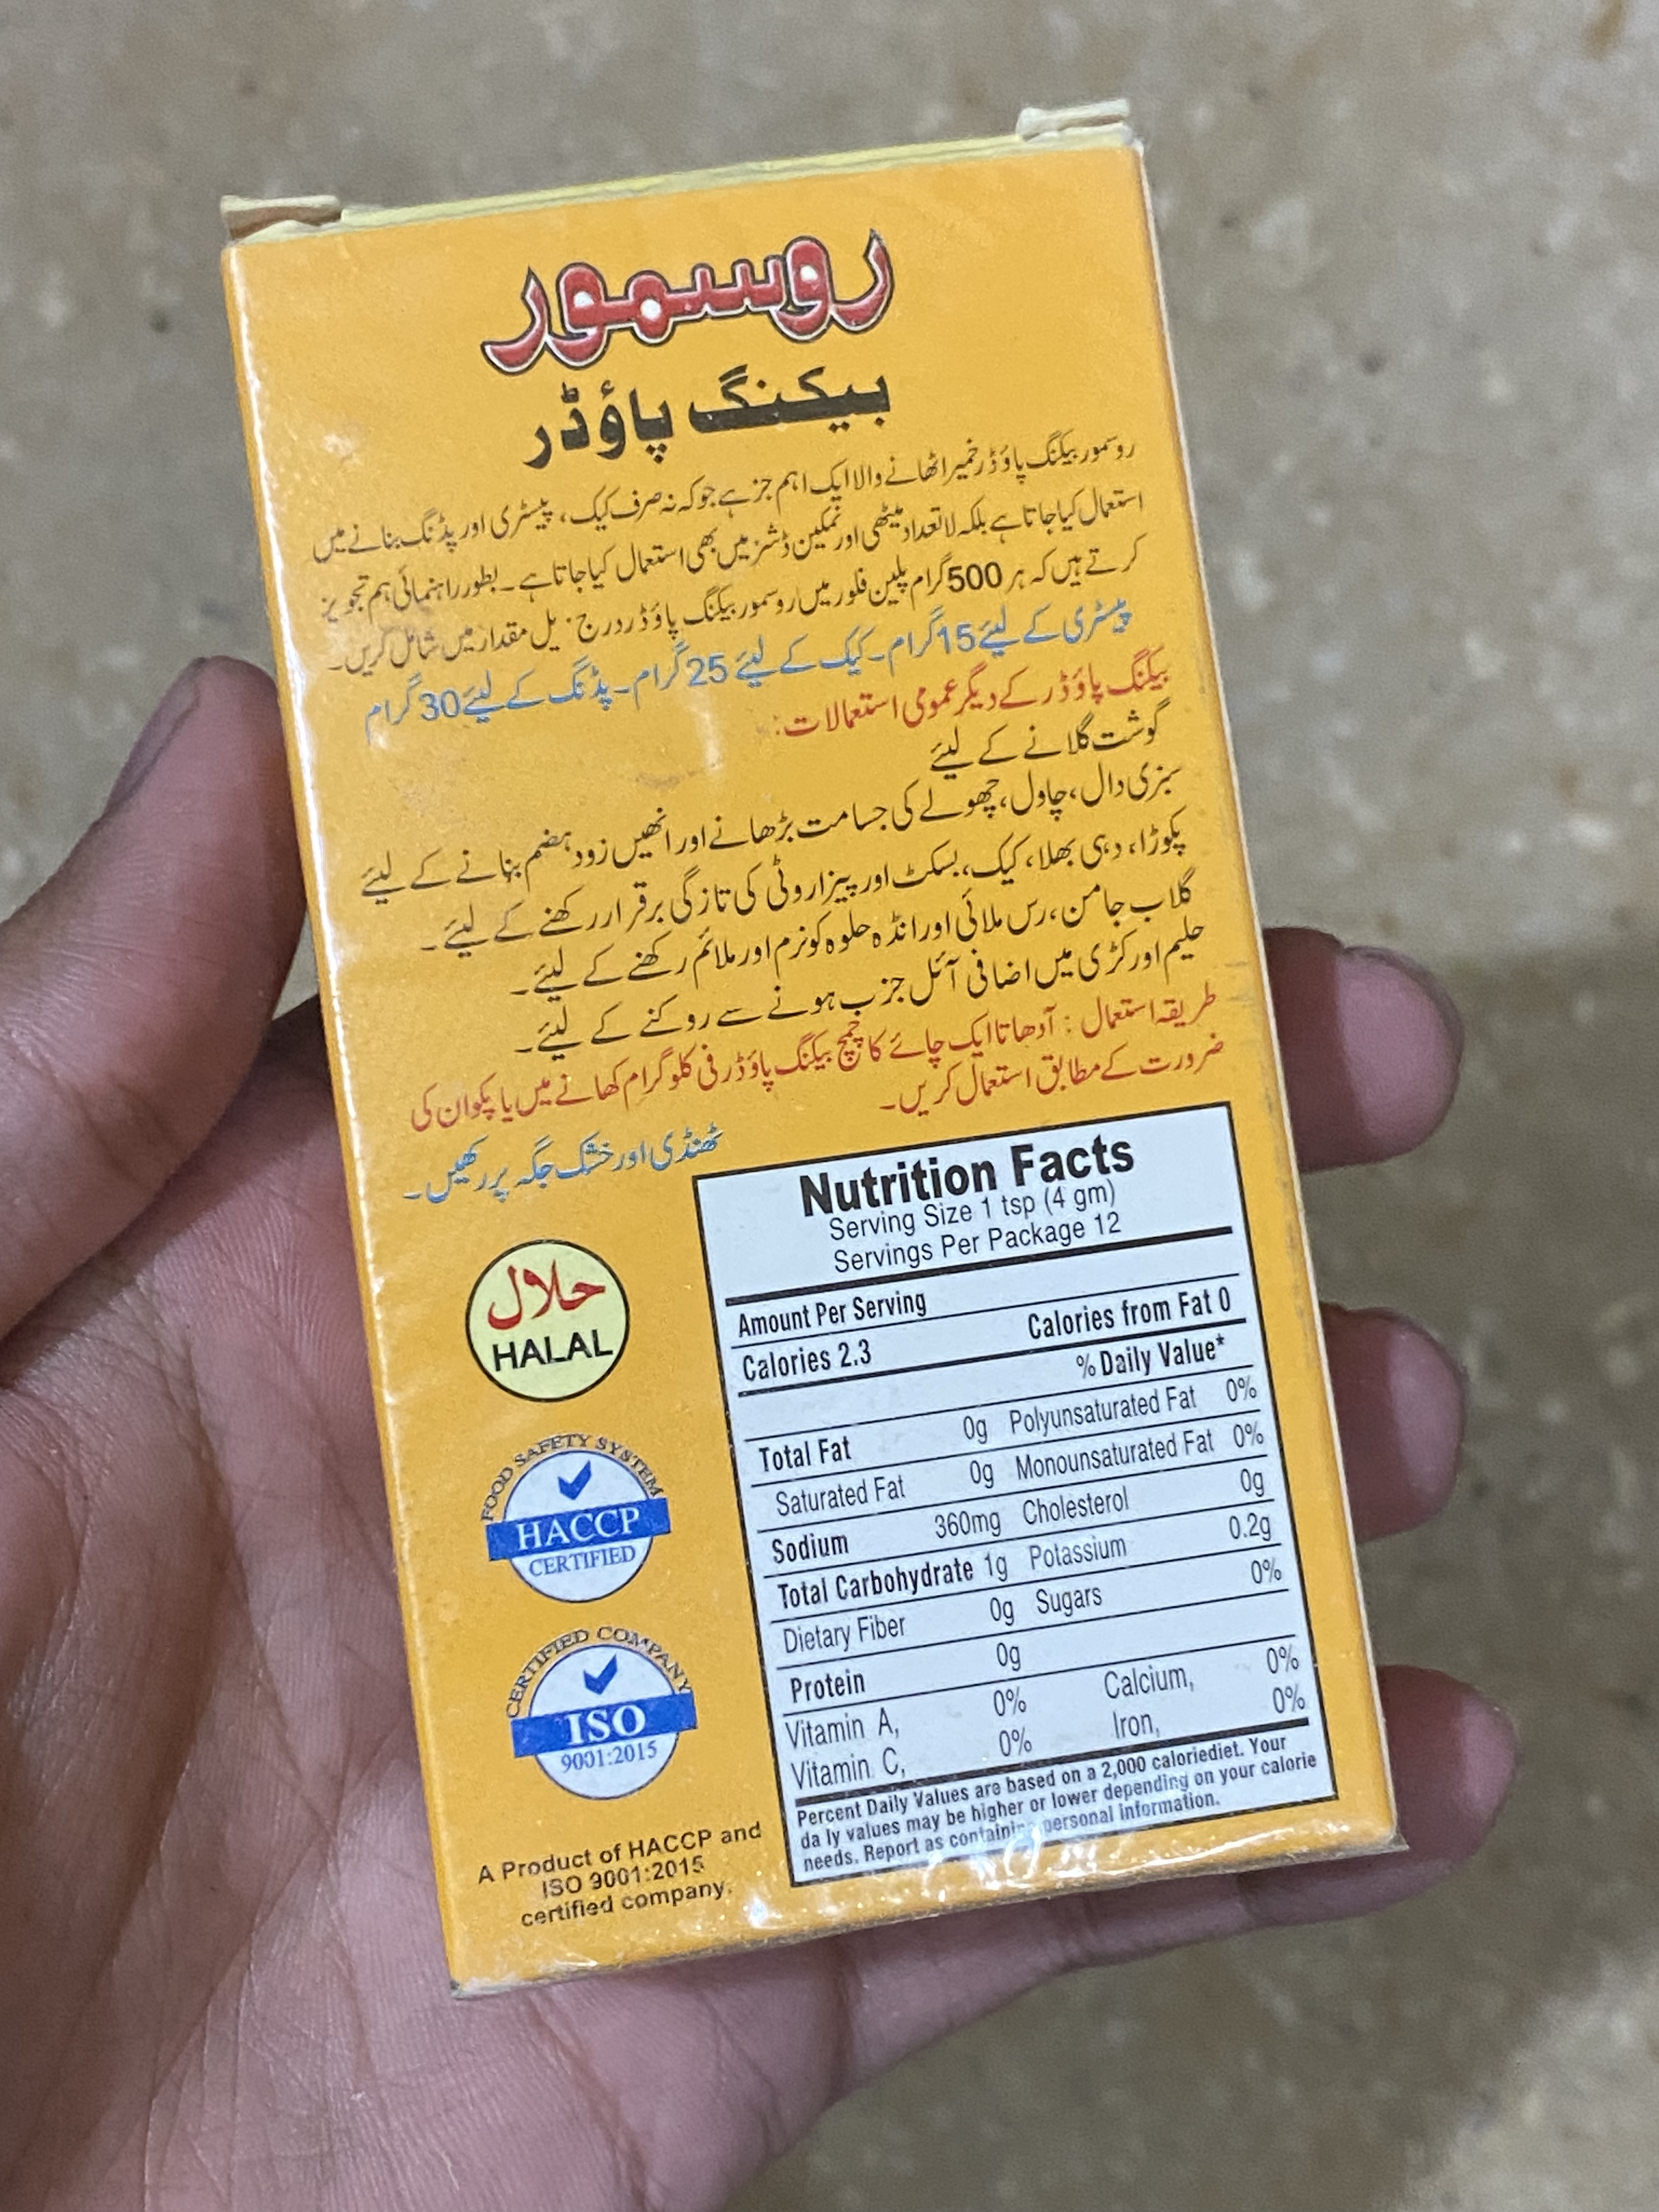table: (690, 1108, 1352, 1900)
